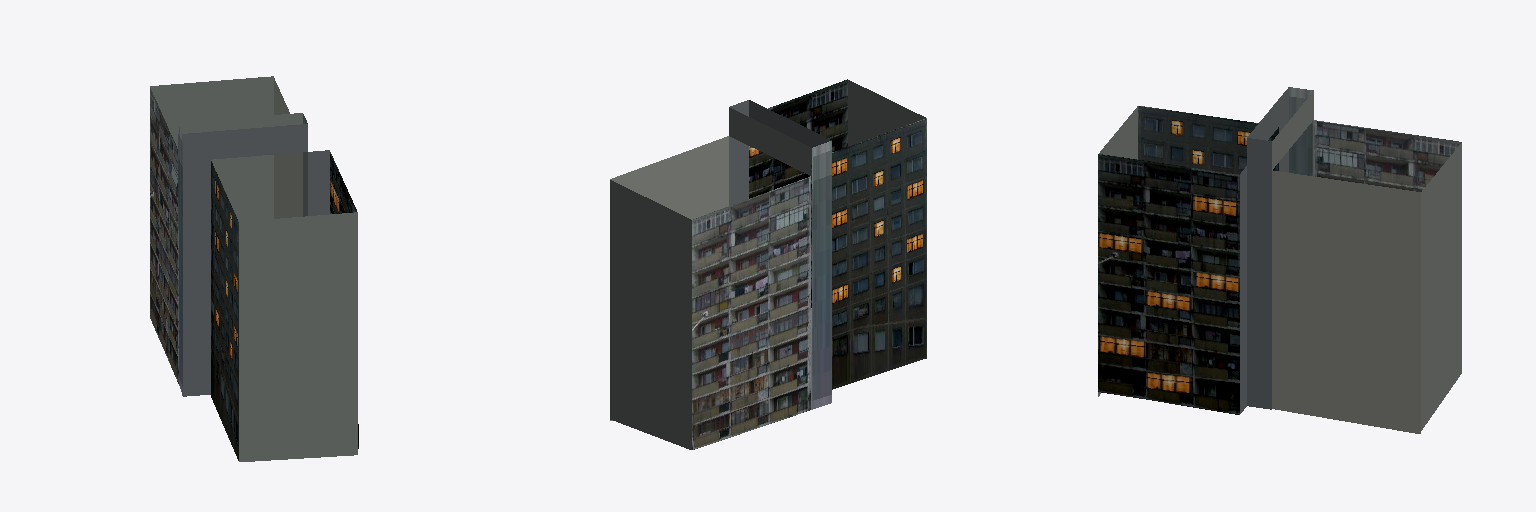
3 renders of one model, left to right at view 1: azimuth 30°, elevation 25°; view 2: azimuth 150°, elevation 25°; view 3: azimuth 270°, elevation 25°, orthographic.
Parts seen in each view (by area): view 1: Mesh2_Component_2_1_Model.003_Mesh2_Component_2_1_Model.007; view 2: Mesh2_Component_2_1_Model.003_Mesh2_Component_2_1_Model.007; view 3: Mesh2_Component_2_1_Model.003_Mesh2_Component_2_1_Model.007.
Part boxes in pixels (x1,y1,x2,y2): Mesh2_Component_2_1_Model.003_Mesh2_Component_2_1_Model.007: (150, 76, 358, 461); Mesh2_Component_2_1_Model.003_Mesh2_Component_2_1_Model.007: (610, 79, 926, 449); Mesh2_Component_2_1_Model.003_Mesh2_Component_2_1_Model.007: (1098, 87, 1461, 433).
Bounding box in the file's own units: 23.37 × 34.42 × 41.95.
11 materials, 3 textured.